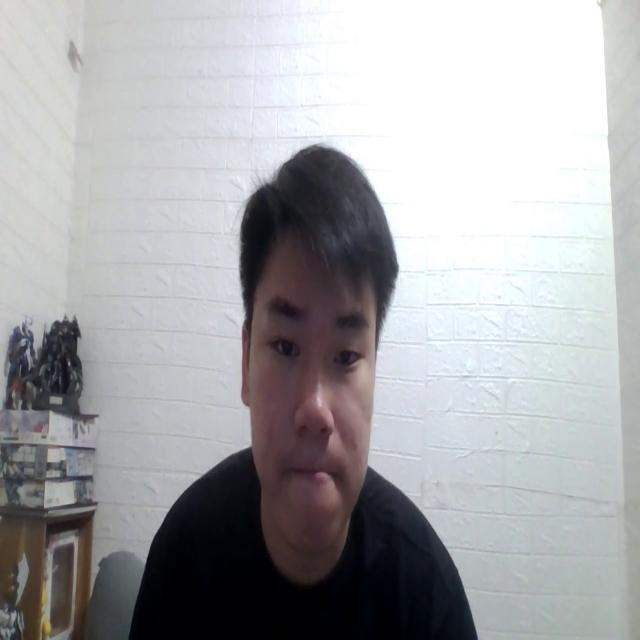student: (127, 139, 478, 640)
